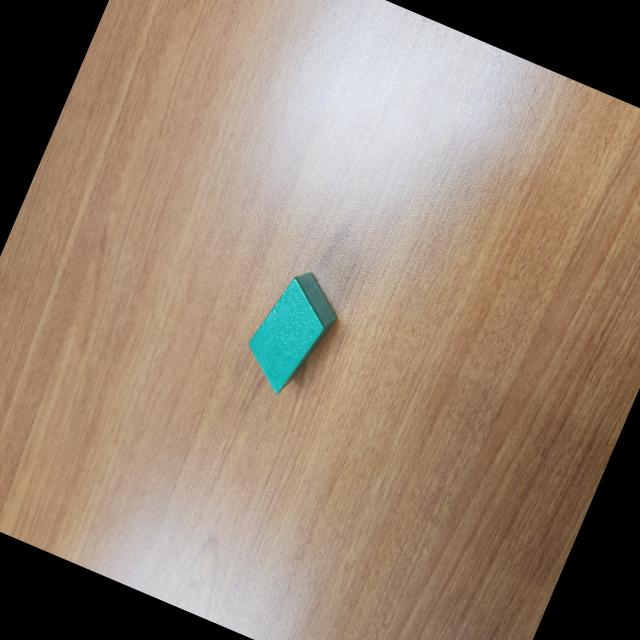green: (232, 260, 350, 404)
